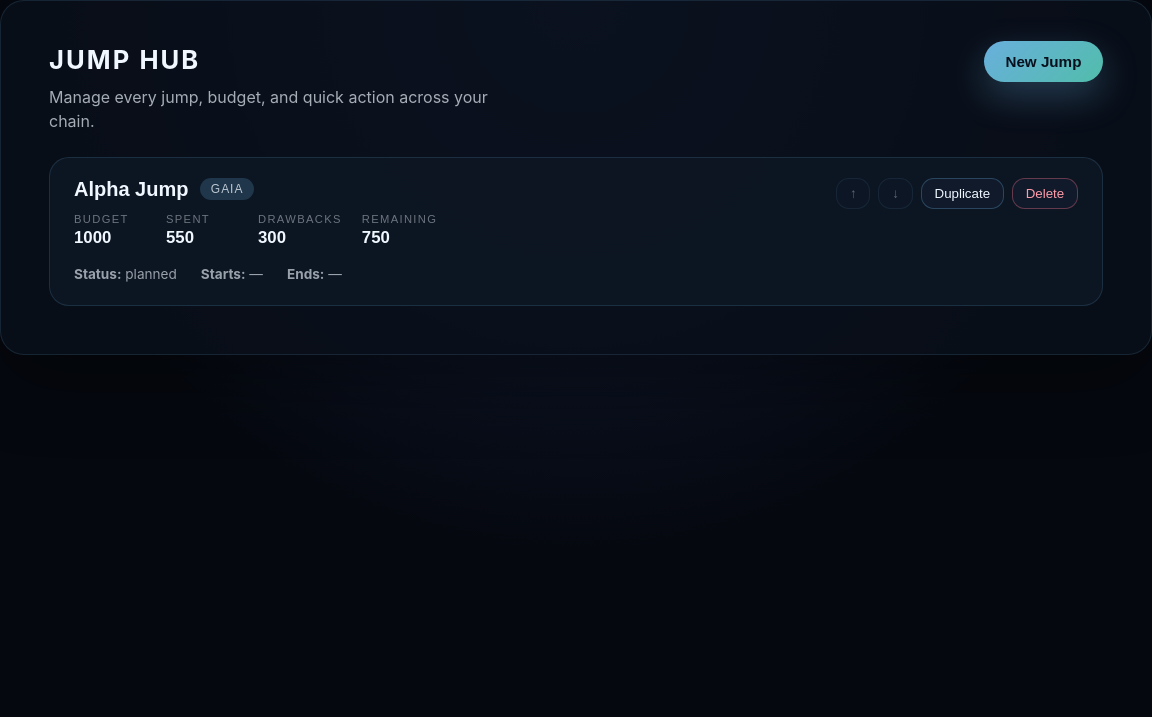
Test case: JumpchainOverview stipend adjustments › recomputes stipend totals when toggles change
Click the button "Alpha Jump": (131, 189) [74,178,816,248]
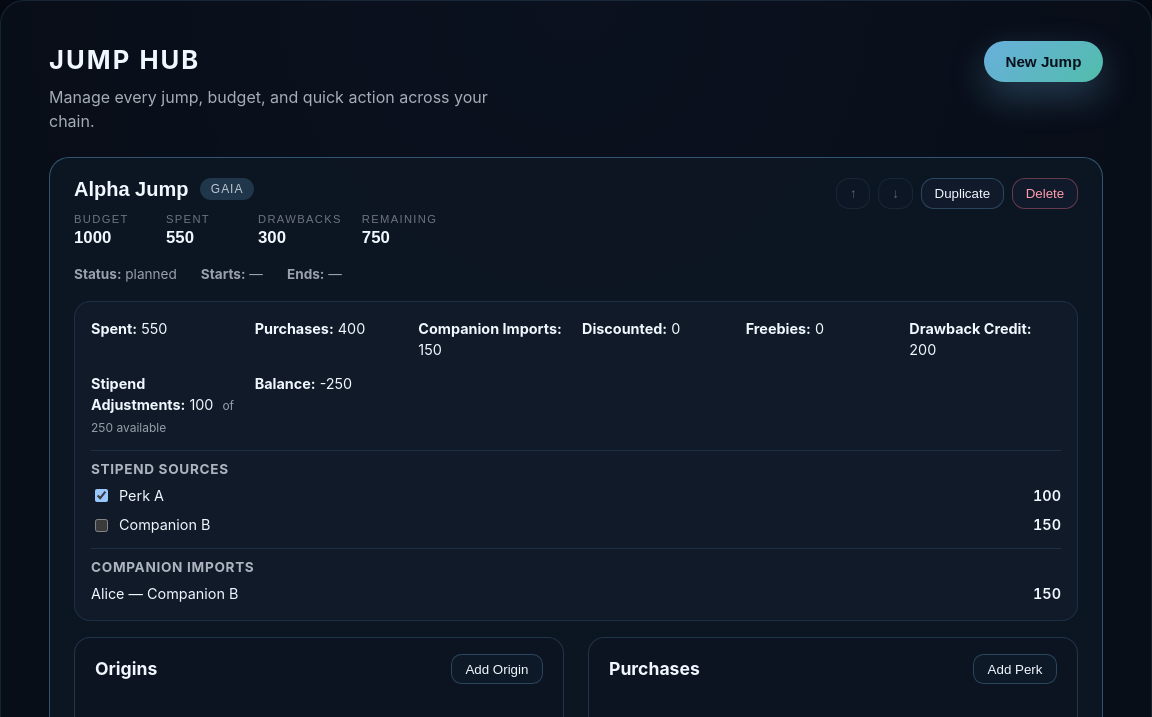
Expected: the heading "Stipend Sources" is shown, [91,461,229,477]
Expected: the element showing "Balance: -250" is shown, [255,375,352,392]
Expected: the checkbox labelled "Perk A" is checked
Click the checkbox labelled "Perk A": (102, 495) [95,489,108,502]
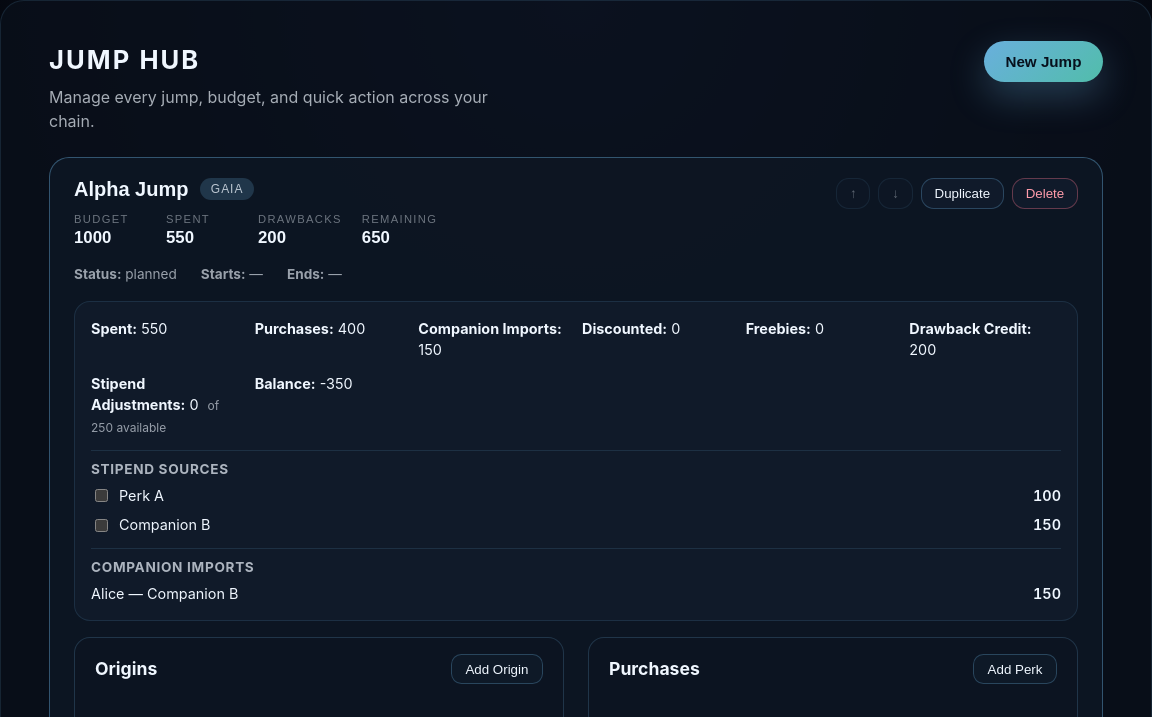
Expected: the checkbox labelled "Perk A" is not checked, [95,489,108,502]
Expected: the element showing "Balance: -350" is shown, [255,375,353,392]
